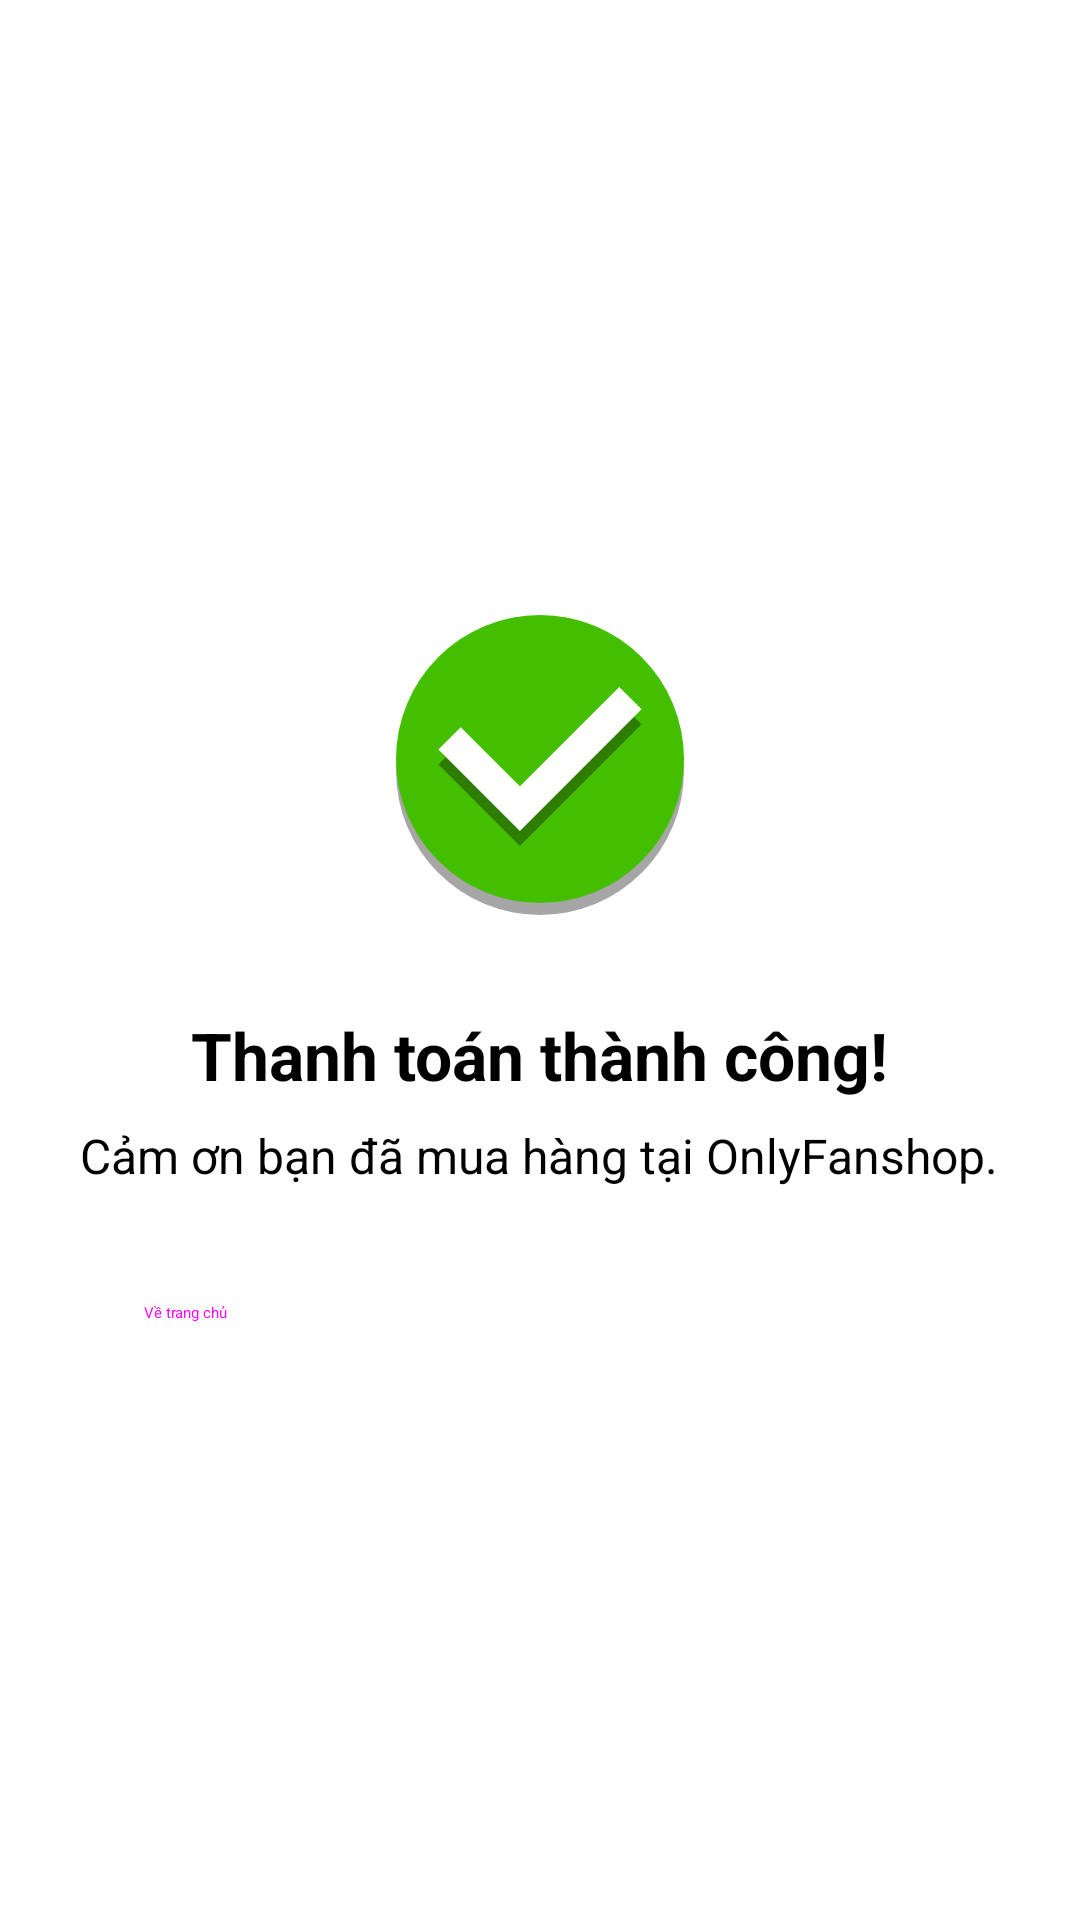

Icons on this 1080 x 1920 Android screen, each with the point to tap as (x=x, y=y):
Success: (x=540, y=765)
